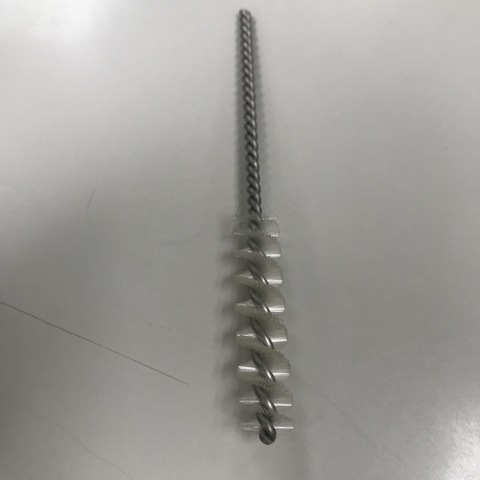Twist Brush-B: (226, 8, 301, 455)
